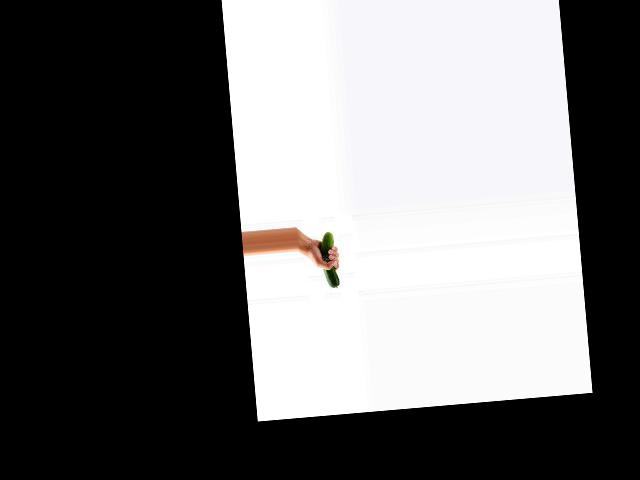cucumber: (319, 231, 340, 288)
